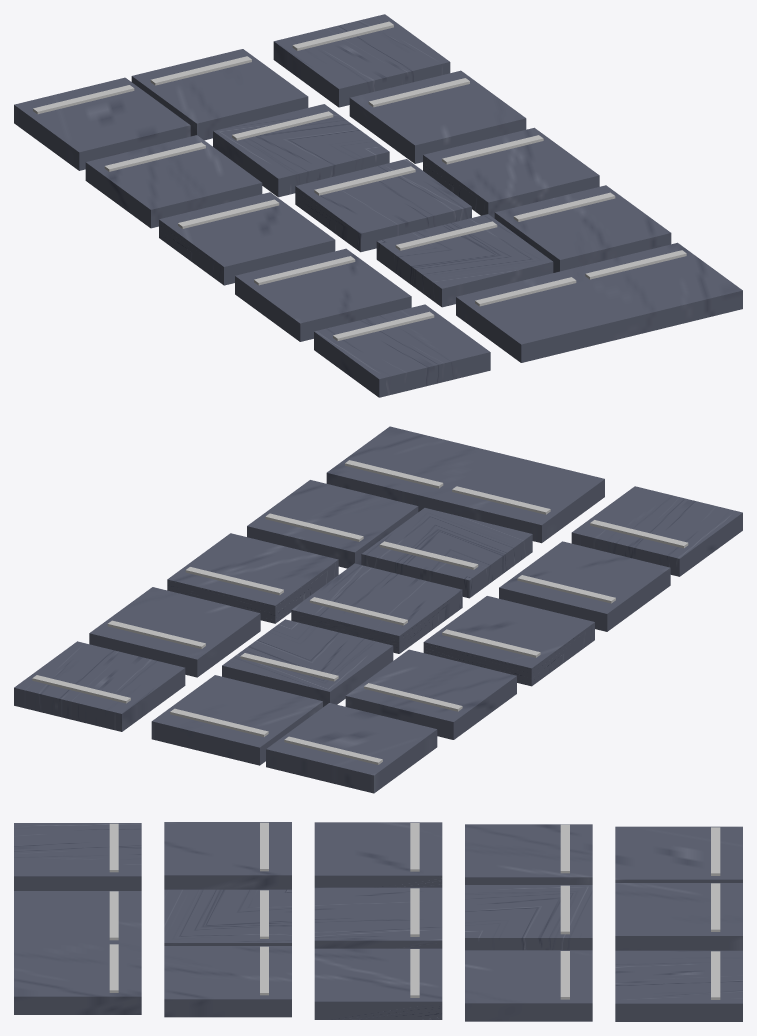
Rendered from dojo_ceremonial_stones.obj.
3 views of the same model, one above another, from view 1: azimuth 30°, elevation 25°; view 2: azimuth 150°, elevation 25°; view 3: azimuth 270°, elevation 25° (orthographic). The views are drawn at different scales.
Visible parts, largest first — view 1: geometry_24, geometry_26, geometry_14, geometry_20, geometry_18, geometry_4, geometry_12, geometry_6, geometry_10, geometry_0, geometry_8, geometry_16 (+18 smaller); view 2: geometry_4, geometry_0, geometry_6, geometry_12, geometry_18, geometry_10, geometry_2, geometry_24, geometry_26, geometry_20, geometry_14, geometry_16 (+18 smaller); view 3: geometry_16, geometry_28, geometry_4, geometry_10, geometry_22, geometry_24, geometry_2, geometry_18, geometry_12, geometry_8, geometry_14, geometry_6 (+18 smaller).
Boxes of the visible parts, <box> form: geometry_24: <box>314,304,490,397</box>; geometry_26: <box>456,270,632,362</box>; geometry_14: <box>295,159,471,252</box>; geometry_20: <box>376,214,553,307</box>; geometry_18: <box>235,248,411,341</box>; geometry_4: <box>273,14,450,107</box>; geometry_12: <box>159,192,335,285</box>; geometry_6: <box>85,135,262,228</box>; geometry_10: <box>349,70,526,163</box>; geometry_0: <box>14,77,190,170</box>; geometry_8: <box>213,104,389,197</box>; geometry_16: <box>423,127,599,218</box>; geometry_4: <box>14,641,185,731</box>; geometry_0: <box>266,703,437,793</box>; geometry_6: <box>345,649,516,739</box>; geometry_12: <box>423,596,594,686</box>; geometry_18: <box>499,541,670,631</box>; geometry_10: <box>89,587,260,677</box>; geometry_2: <box>151,675,322,765</box>; geometry_24: <box>571,486,742,576</box>; geometry_26: <box>433,452,604,543</box>; geometry_20: <box>361,508,532,598</box>; geometry_14: <box>291,563,462,653</box>; geometry_16: <box>167,533,338,623</box>; geometry_16: <box>314,948,442,1019</box>; geometry_28: <box>14,943,141,1014</box>; geometry_4: <box>615,950,742,1021</box>; geometry_10: <box>465,950,592,1021</box>; geometry_22: <box>164,946,291,1017</box>; geometry_24: <box>14,823,141,890</box>; geometry_2: <box>615,883,742,950</box>; geometry_18: <box>164,822,291,889</box>; geometry_12: <box>314,822,442,887</box>; geometry_8: <box>465,885,592,950</box>; geometry_14: <box>314,887,442,948</box>; geometry_6: <box>465,824,592,884</box>.
Bounding box in the file's own units: 4.72 × 0.255 × 8.
